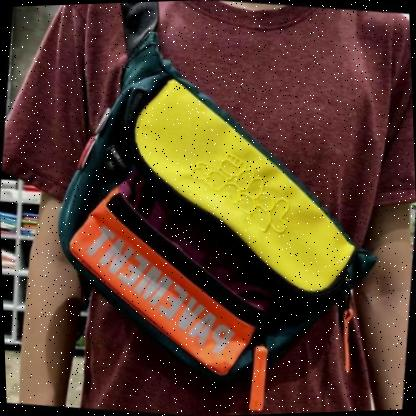bag: (42, 50, 382, 400)
